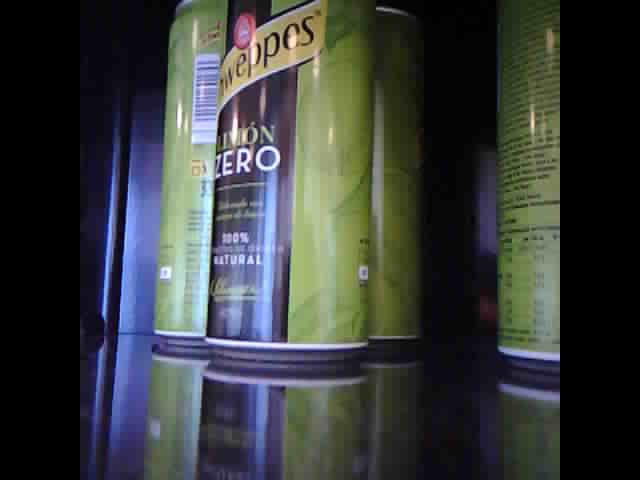schweppes: (202, 1, 376, 365), (150, 1, 228, 353), (496, 4, 560, 363), (365, 4, 420, 348)
